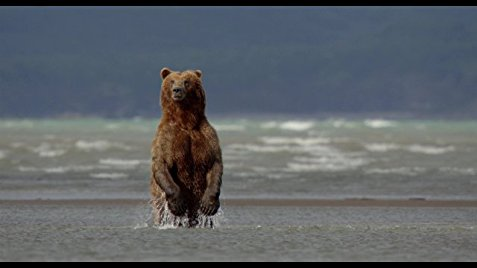bear: (158, 65, 205, 101)
